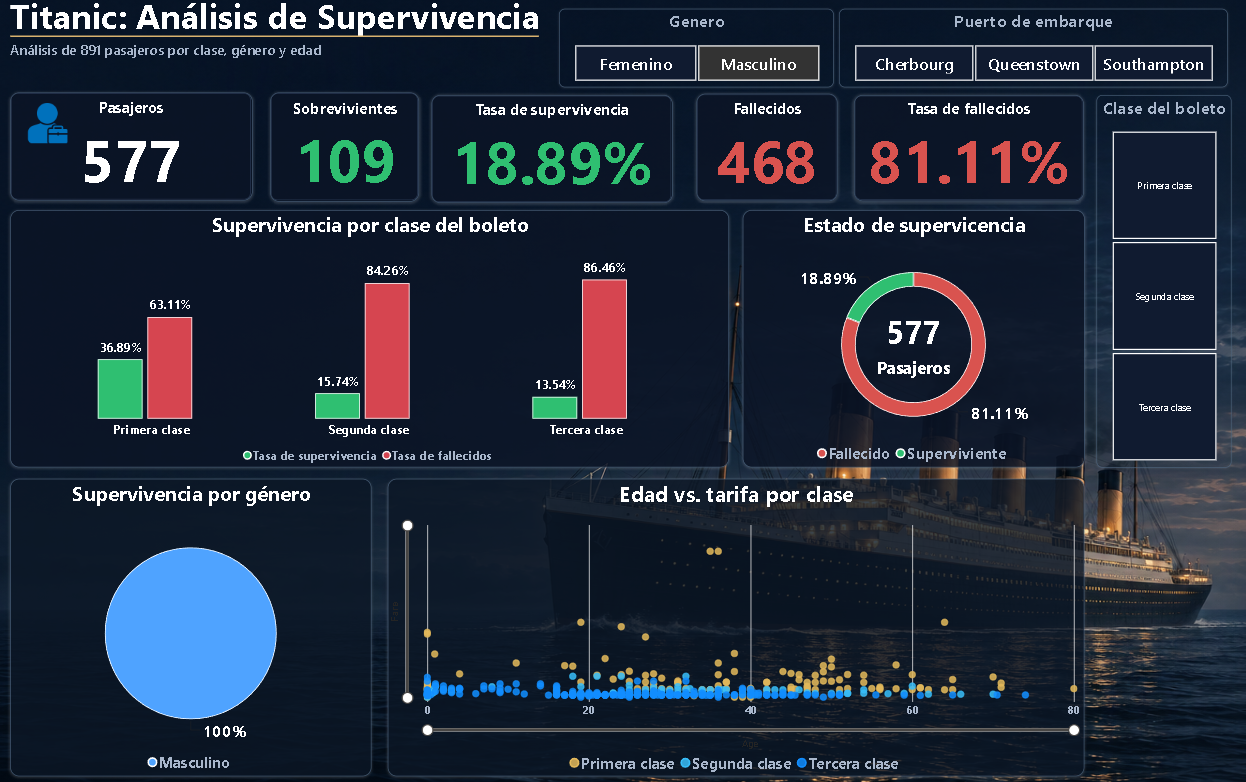

The dashboard page shown, as its layout file describes it:
{"tool":"powerbi","page":{"name":"Performances","canvas":[1920,1080],"ordinal":0},"visuals":[{"type":"cardVisual","fields":{"Data":["Titanic-Dataset.Cantidad_Pasajeros"]},"box":[268.6,150,322.9,144.3],"z":0},{"type":"cardVisual","fields":{"Data":["Titanic-Dataset.Sobrevivientes"]},"box":[615.7,150,198.6,145.7],"z":1000},{"type":"cardVisual","fields":{"Data":["Titanic-Dataset.Fallecidos"]},"box":[1183.3,151.7,188.3,143.3],"z":2000},{"type":"cardVisual","fields":{"Data":["Titanic-Dataset.Tasa_supervivencia"]},"box":[830,152.9,321.4,144.3],"z":3000},{"type":"donutChart","title":"Estado de supervicencia","fields":{"Category":["Titanic-Dataset.Tipo"],"Y":["Titanic-Dataset.Pasajeros"]},"box":[1244.3,307.1,455.7,342.9],"z":4000},{"type":"image","box":[268.3,160,99.7,61.9],"z":5000},{"type":"pieChart","title":"Supervivencia por género","fields":{"Category":["Titanic-Dataset.Genero"],"Series":["Titanic-Dataset.Tipo"],"Y":["Titanic-Dataset.Sobrevivientes"]},"box":[268.3,665,481.7,396.7],"z":6000},{"type":"clusteredColumnChart","title":"Supervivencia por clase del boleto","fields":{"Category":["Titanic-Dataset.Clase_Boleto"],"Y":["Titanic-Dataset.Tasa de supervivencia","Titanic-Dataset.Tasa de fallecidos"]},"box":[268,306.7,958.3,343.3],"z":7000},{"type":"scatterChart","title":"Edad vs. tarifa por clase","fields":{"Series":["Titanic-Dataset.Clase_Boleto"],"X":["Titanic-Dataset.Age"],"Y":["Titanic-Dataset.Fare"]},"box":[771.4,664.3,928.6,397.1],"z":8000},{"type":"textbox","title":"Titanic: Análisis de Supervivencia","box":[268.3,16.7,1385,105],"z":9000},{"type":"shape","box":[268.3,0,705,150],"z":10000},{"type":"slicer","title":"Genero","fields":{"Values":["Titanic-Dataset.Genero"]},"box":[999.7,38,366.7,105],"z":11000},{"type":"slicer","title":"Puerto de embarque","fields":{"Values":["Titanic-Dataset.Embarked_Town"]},"box":[1373,38,518.3,105],"z":12000},{"type":"slicer","title":"Clase del boleto","fields":{"Values":["Titanic-Dataset.Clase_Boleto"]},"box":[1716.7,153.3,180,496.7],"z":13000},{"type":"cardVisual","fields":{"Data":["Titanic-Dataset.Tasa_Fallecidos"]},"box":[1393.3,153.3,306.7,141.7],"z":14000}]}

Visuals, with their boxes on the page's 1920x1080 design canvas (x1, y1, x2, y2). These are canvas units, not pixel positions in the 1246x782 screenshot, which may show the page scaled, cropped or inside an application window:
cardVisual - Titanic-Dataset.Cantidad_Pasajeros: bbox=[269, 150, 592, 294]
cardVisual - Titanic-Dataset.Sobrevivientes: bbox=[616, 150, 814, 296]
cardVisual - Titanic-Dataset.Fallecidos: bbox=[1183, 152, 1372, 295]
cardVisual - Titanic-Dataset.Tasa_supervivencia: bbox=[830, 153, 1151, 297]
"Estado de supervicencia" donutChart: bbox=[1244, 307, 1700, 650]
image: bbox=[268, 160, 368, 222]
"Supervivencia por género" pieChart: bbox=[268, 665, 750, 1062]
"Supervivencia por clase del boleto" clusteredColumnChart: bbox=[268, 307, 1226, 650]
"Edad vs. tarifa por clase" scatterChart: bbox=[771, 664, 1700, 1061]
"Titanic: Análisis de Supervivencia" textbox: bbox=[268, 17, 1653, 122]
shape: bbox=[268, 0, 973, 150]
"Genero" slicer: bbox=[1000, 38, 1366, 143]
"Puerto de embarque" slicer: bbox=[1373, 38, 1891, 143]
"Clase del boleto" slicer: bbox=[1717, 153, 1897, 650]
cardVisual - Titanic-Dataset.Tasa_Fallecidos: bbox=[1393, 153, 1700, 295]
